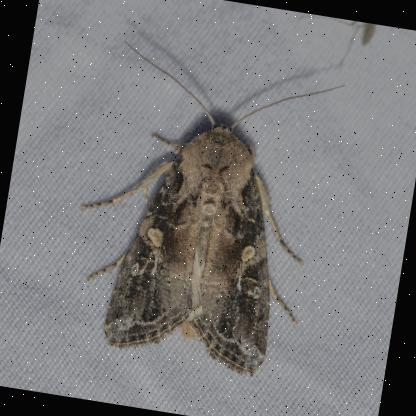Fall Armyworm Moth: (54, 33, 349, 387)
